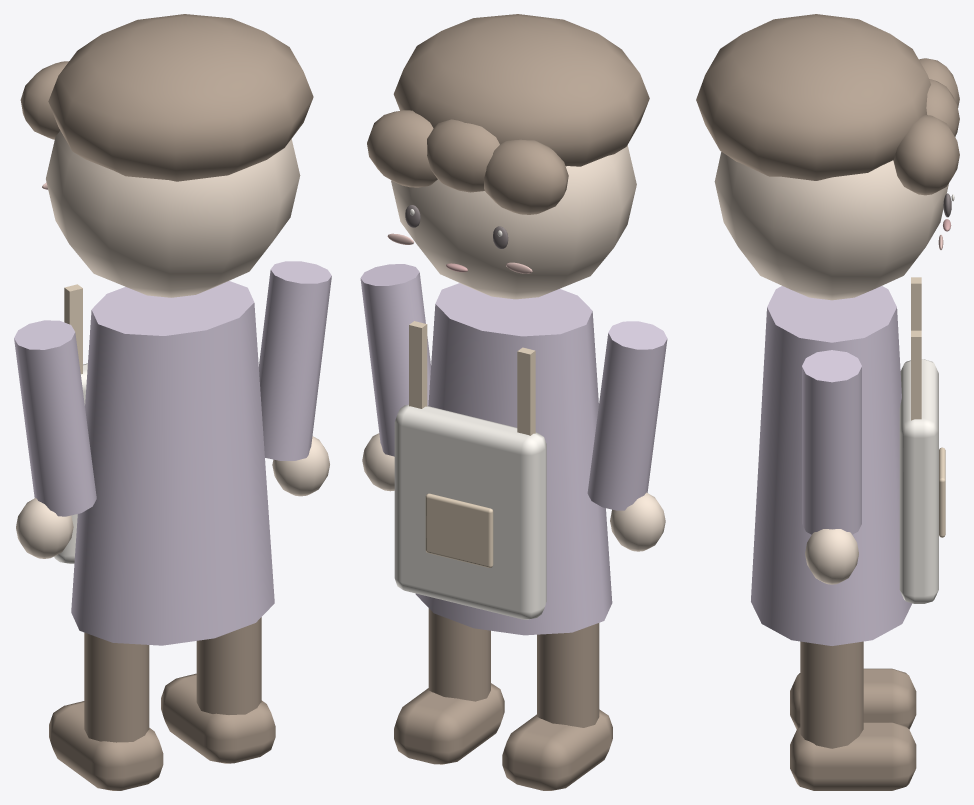
File: generic-staff-w1_1a1.glb
The picture shows the model from 3 angles, left to right: view 1: azimuth 30°, elevation 25°; view 2: azimuth 150°, elevation 25°; view 3: azimuth 270°, elevation 25°; orthographic projection. The views are drawn at different scales.
Parts seen in each view (by area): view 1: generic-staff-w1_1a1.material0, generic-staff-w1_1a1.material5, generic-staff-w1_1a1.material4, generic-staff-w1_1a1.material3, generic-staff-w1_1a1.material2, generic-staff-w1_1a1.material1; view 2: generic-staff-w1_1a1.material0, generic-staff-w1_1a1.material5, generic-staff-w1_1a1.material1, generic-staff-w1_1a1.material4, generic-staff-w1_1a1.material3, generic-staff-w1_1a1.material2, generic-staff-w1_1a1.material6; view 3: generic-staff-w1_1a1.material0, generic-staff-w1_1a1.material5, generic-staff-w1_1a1.material4, generic-staff-w1_1a1.material3, generic-staff-w1_1a1.material1, generic-staff-w1_1a1.material2.
Boxes of the visible parts, x1,y1,x2,y2 form: generic-staff-w1_1a1.material0: [14, 261, 331, 645]; generic-staff-w1_1a1.material5: [20, 14, 313, 181]; generic-staff-w1_1a1.material4: [16, 130, 329, 558]; generic-staff-w1_1a1.material3: [49, 617, 275, 790]; generic-staff-w1_1a1.material2: [64, 284, 82, 374]; generic-staff-w1_1a1.material1: [54, 363, 87, 563]; generic-staff-w1_1a1.material0: [360, 264, 667, 635]; generic-staff-w1_1a1.material5: [367, 14, 649, 214]; generic-staff-w1_1a1.material1: [394, 404, 546, 619]; generic-staff-w1_1a1.material4: [362, 145, 665, 551]; generic-staff-w1_1a1.material3: [394, 608, 612, 790]; generic-staff-w1_1a1.material2: [409, 321, 535, 567]; generic-staff-w1_1a1.material6: [405, 205, 508, 248]; generic-staff-w1_1a1.material0: [751, 286, 912, 645]; generic-staff-w1_1a1.material5: [696, 14, 959, 195]; generic-staff-w1_1a1.material4: [714, 152, 948, 584]; generic-staff-w1_1a1.material3: [790, 641, 916, 790]; generic-staff-w1_1a1.material1: [899, 359, 938, 603]; generic-staff-w1_1a1.material2: [911, 277, 945, 537].
Bounding box in the file's own units: 0.5793 × 1.33 × 0.4385.
